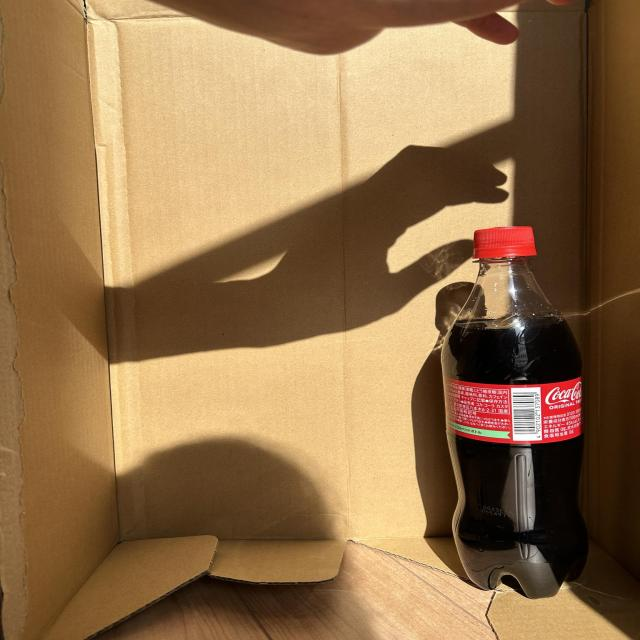high: (441, 226, 588, 598)
